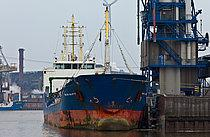Ship: (36, 15, 152, 133)
